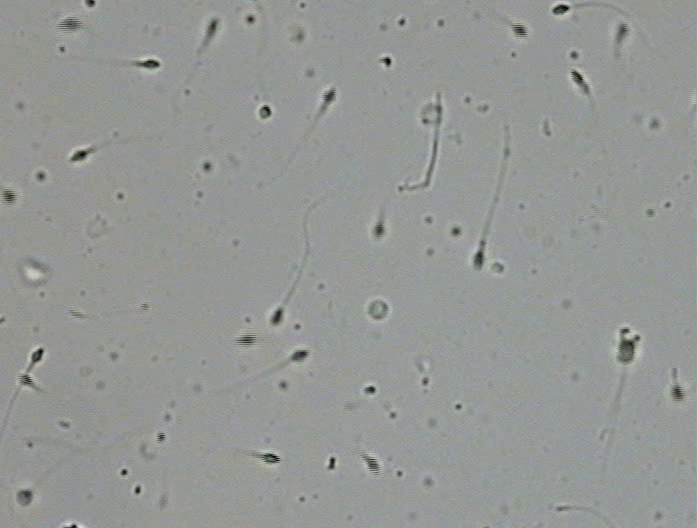Impurity: (367, 300, 388, 319)
S: (618, 339, 635, 364), (57, 17, 83, 33), (365, 456, 381, 475), (511, 22, 528, 38), (236, 333, 255, 347), (260, 452, 281, 464), (472, 250, 484, 271), (670, 384, 684, 402), (16, 490, 32, 505), (3, 189, 17, 205), (322, 87, 336, 103), (291, 350, 309, 362), (616, 22, 627, 41), (71, 150, 88, 162), (271, 308, 283, 325), (552, 4, 570, 15), (17, 374, 33, 386), (373, 222, 385, 238), (259, 105, 272, 119), (31, 348, 44, 362), (570, 69, 583, 83), (143, 60, 160, 70), (207, 19, 217, 36), (84, 1, 95, 8)
